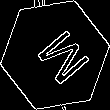M_SW: (23, 21, 87, 89)
